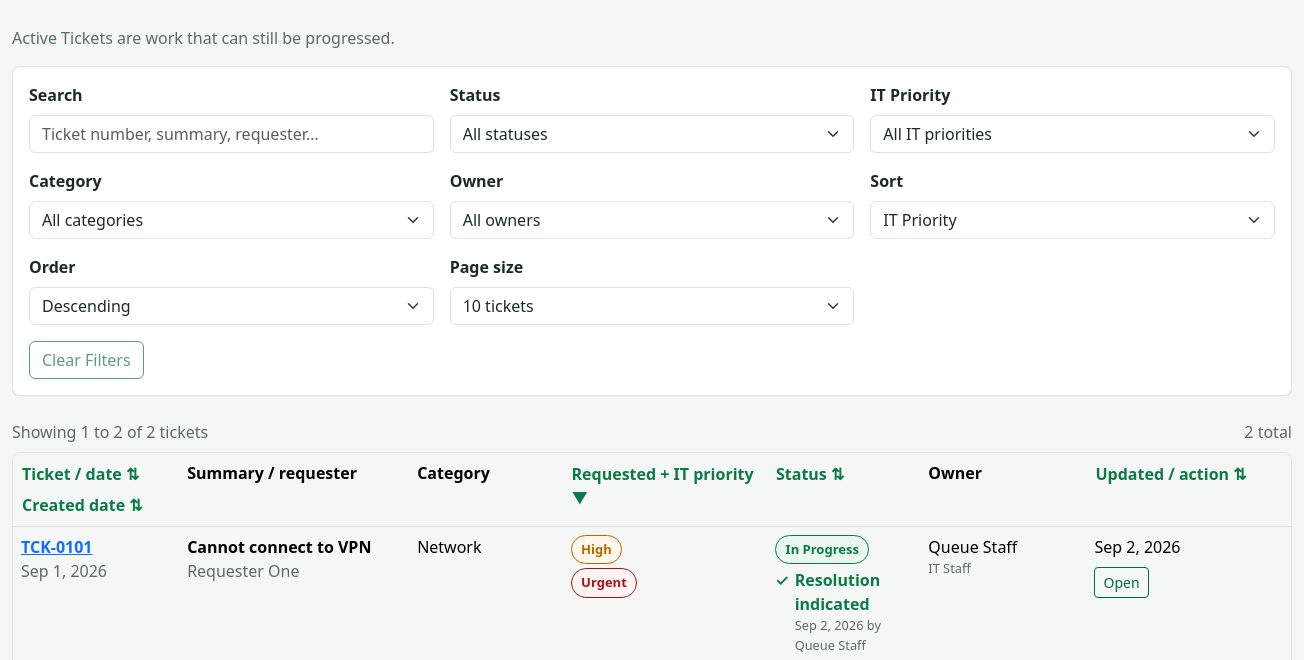
Test case: Issue 56 Staff Ticket Queue › trims only outer search whitespace before URL/API serialization and preserves spaces between words
The image size is (1304, 660).
Type "  printer   driver  " into the search field labelled "Search".
click(231, 134); type("  printer   driver  ")  # box [29,115,434,153]
(page scrolled)
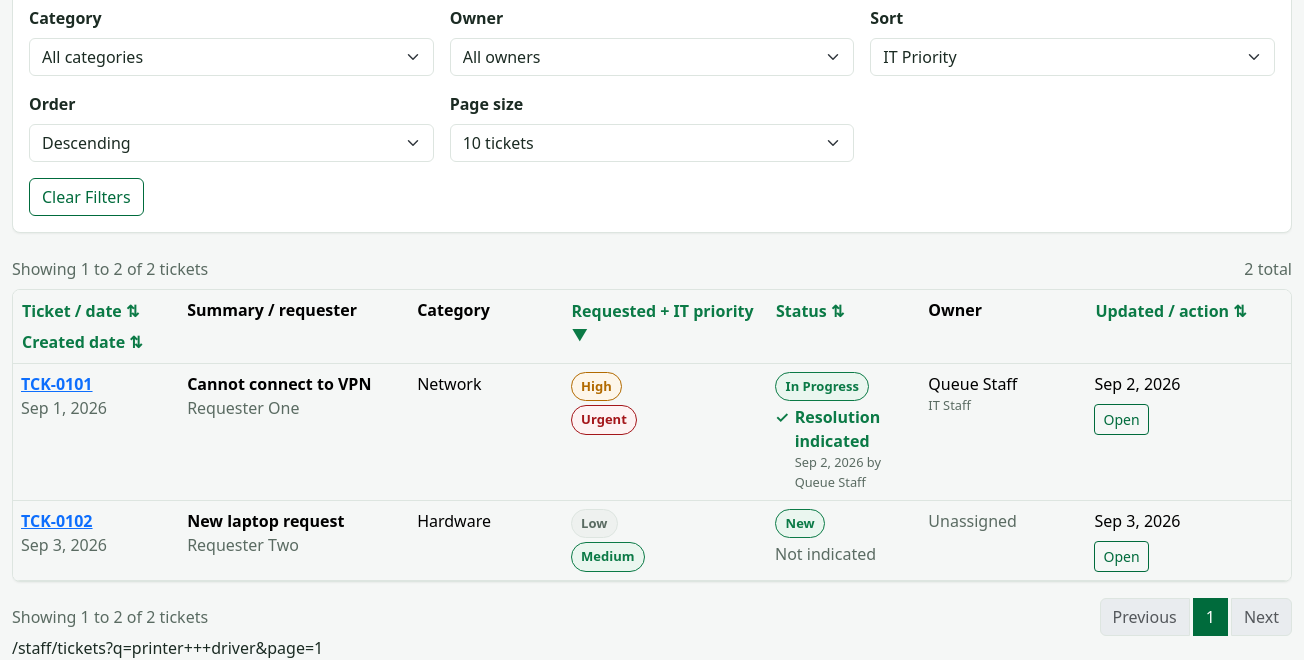
expect the text with test id "location" shows "q=printer+++driver": met, box [106,637,323,659]
